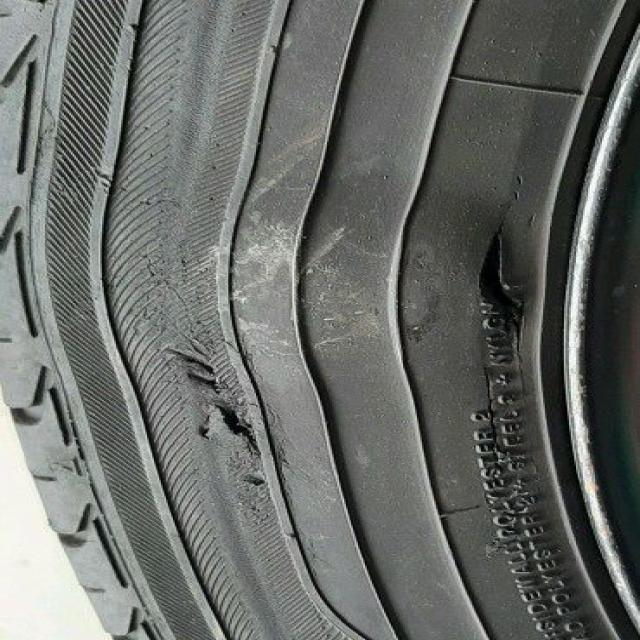Bulge: (149, 150, 486, 382)
